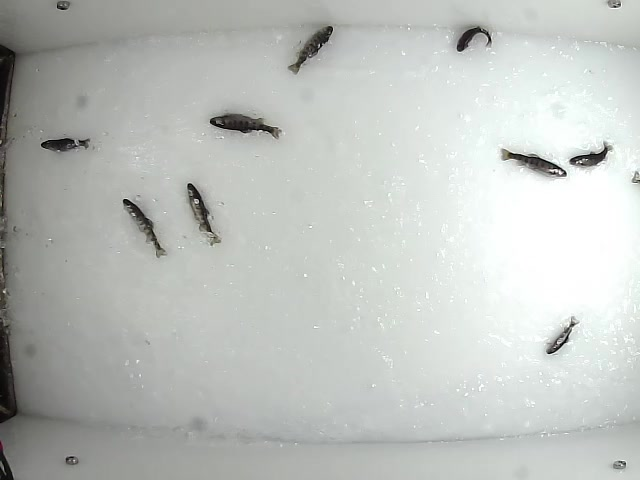fish: (121, 197, 168, 259), (184, 180, 228, 246), (286, 20, 336, 75), (496, 144, 571, 178), (207, 111, 286, 140), (543, 313, 581, 355), (569, 139, 616, 168), (36, 133, 94, 155), (455, 26, 495, 52)
